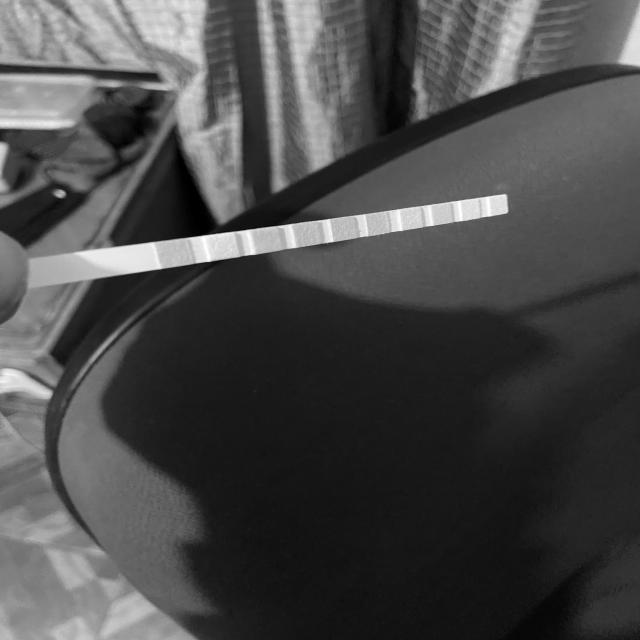Bilirubin: (212, 236, 235, 258)
Blood: (333, 219, 352, 239)
Glucose: (162, 243, 188, 264)
Ketone: (255, 230, 278, 250)
Leukocytes: (492, 198, 506, 214)
Nitrite: (463, 202, 478, 218)
Protein: (404, 210, 421, 228)
SpGravity: (297, 226, 316, 245)
Urobilinogen: (434, 204, 451, 223)
background: (0, 0, 640, 640)
pH: (368, 215, 387, 232)
strip: (33, 194, 509, 286)
